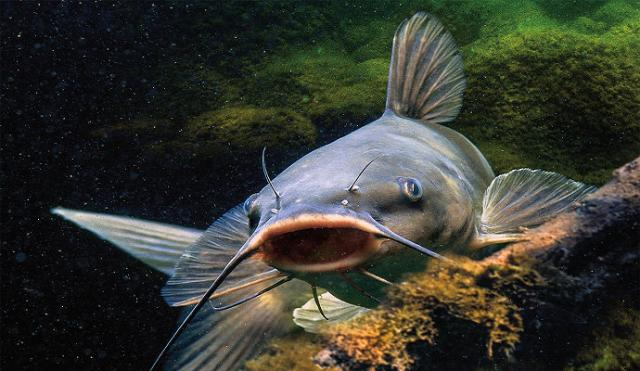Mulut: (220, 196, 402, 296)
Sirip Dada: (142, 178, 314, 320), (449, 149, 601, 259)
Sirip Punggung: (369, 0, 476, 136)
